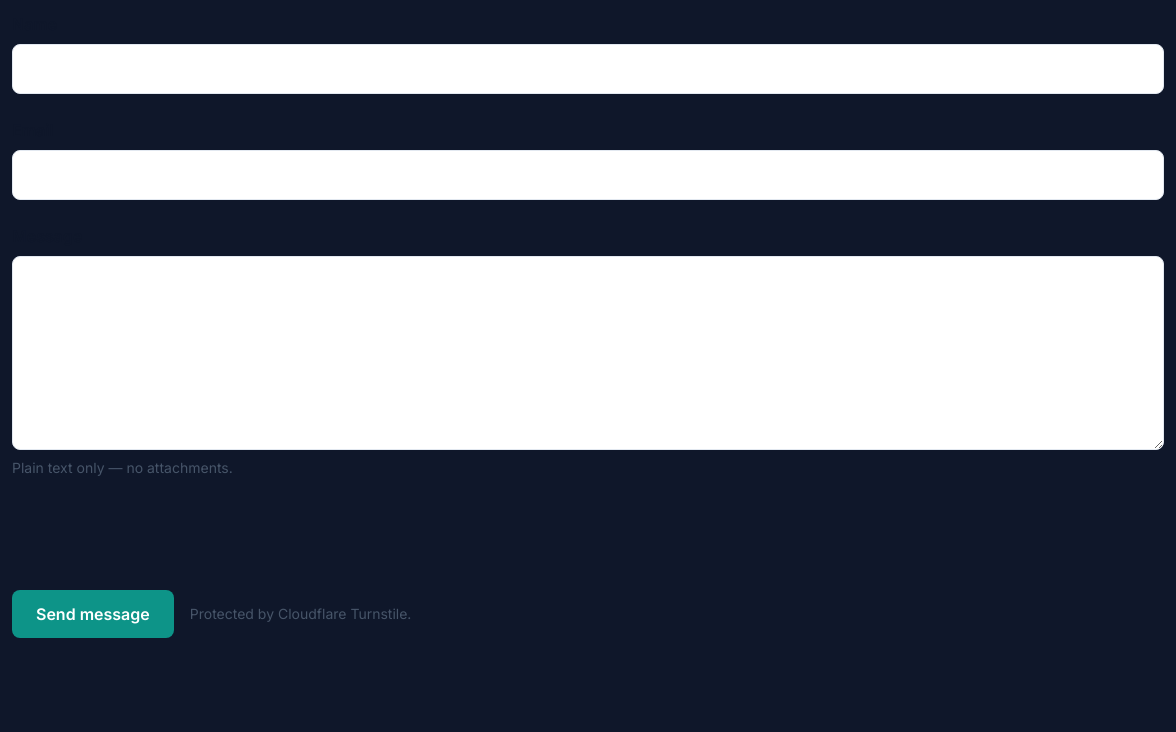
Test: ContactForm › explains rate limiting and resets the Turnstile widget
Type "Ada Lovelace" into the field labelled "Name" at coordinates (588, 69), box [12, 44, 1164, 94]
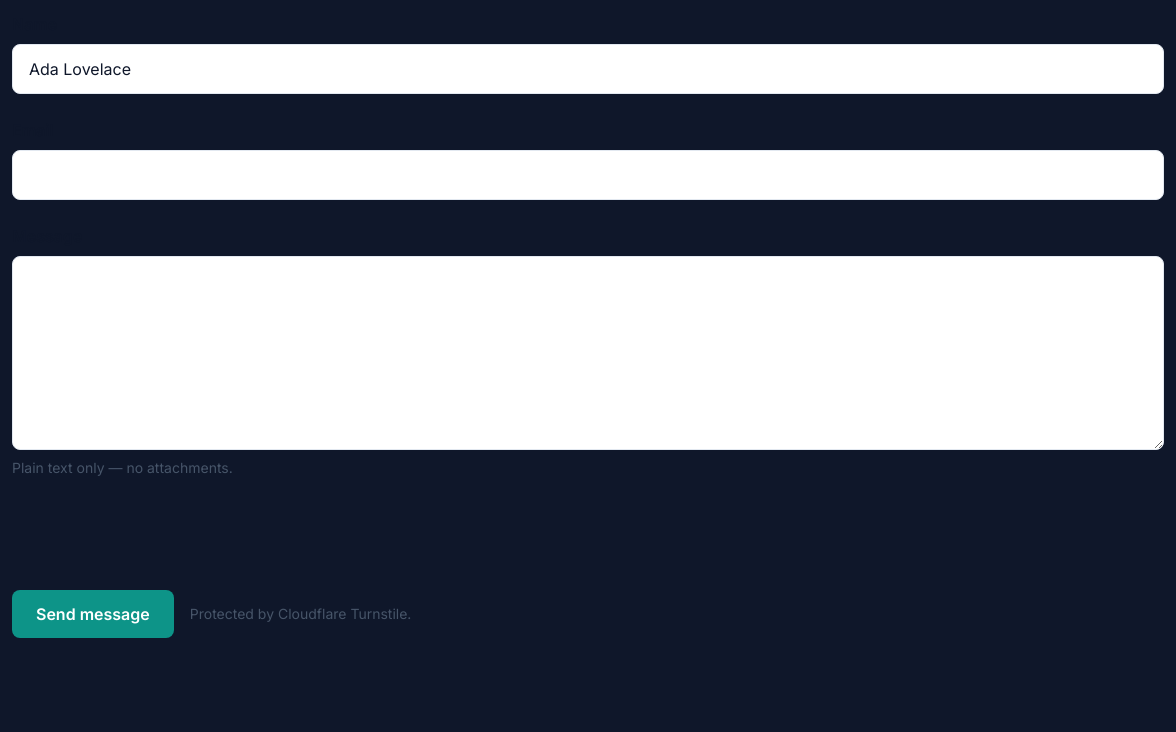
Type "ada@example.com" into the field labelled "Email" at coordinates (588, 175), box [12, 150, 1164, 200]
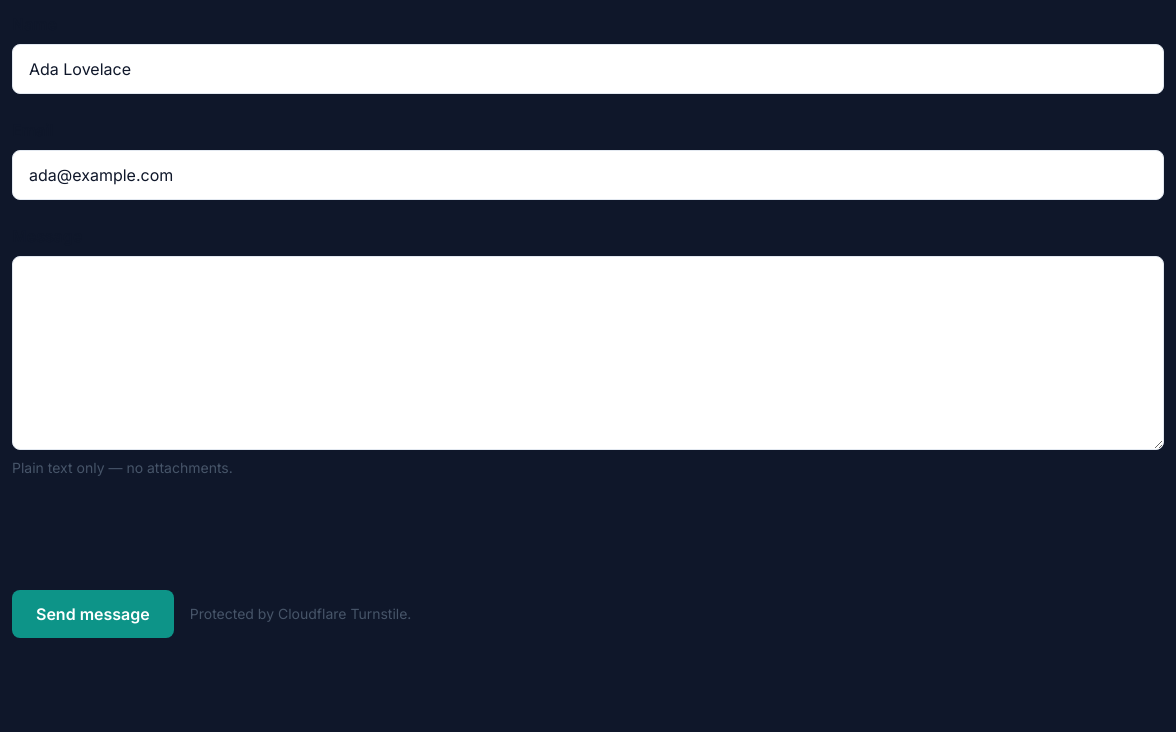
Type "Hello Bill, I would love to talk about product." into the text box labelled "Message" at coordinates (588, 353), box [12, 256, 1164, 450]
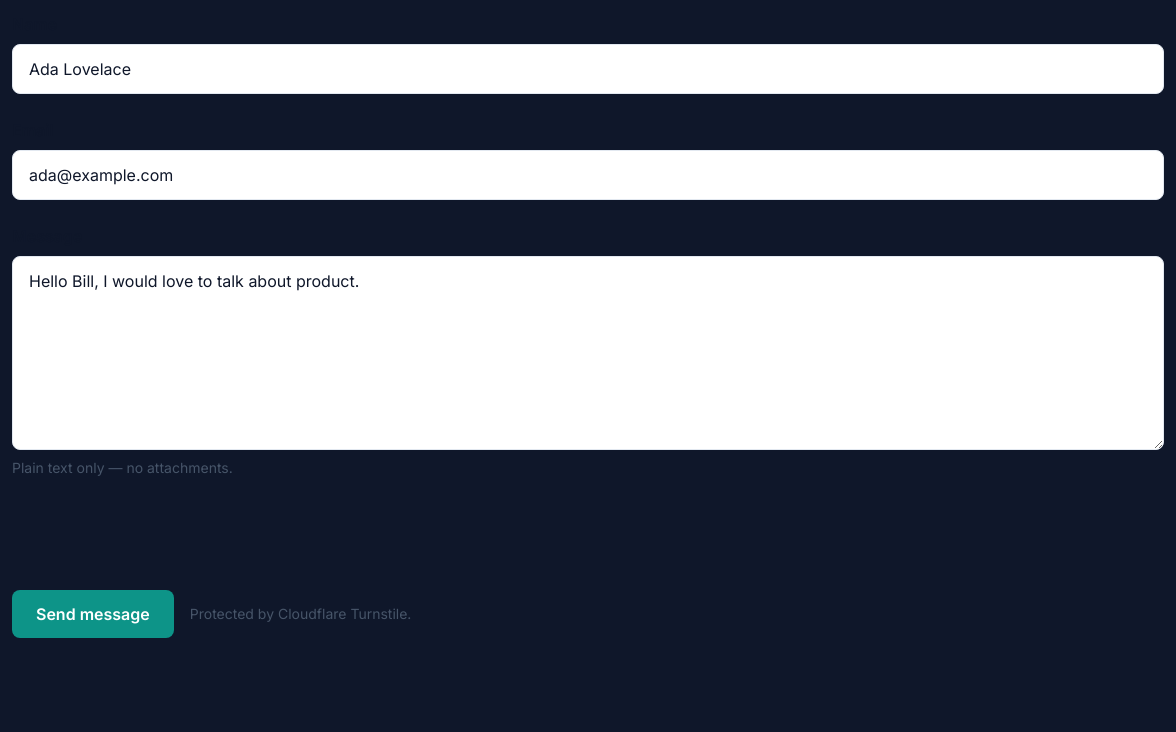
Click the button "Send message" at coordinates (93, 614), box [12, 590, 174, 638]
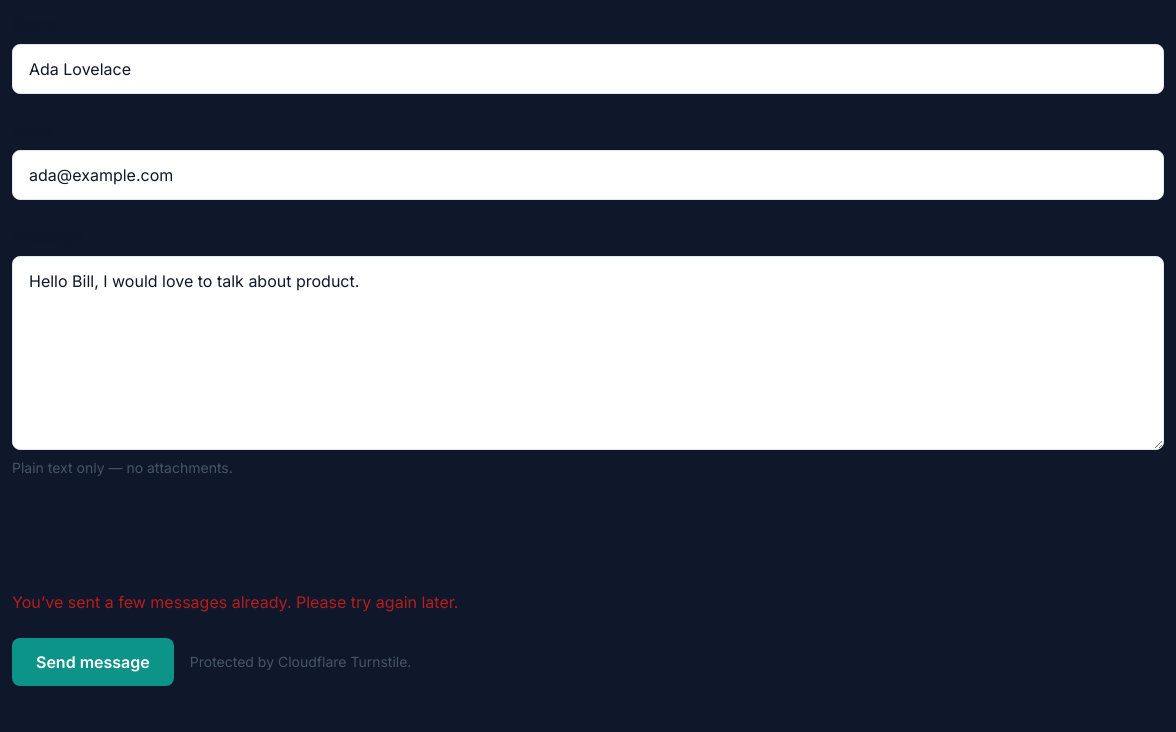
Expected: the message shows "try again later", [12, 592, 458, 612]
